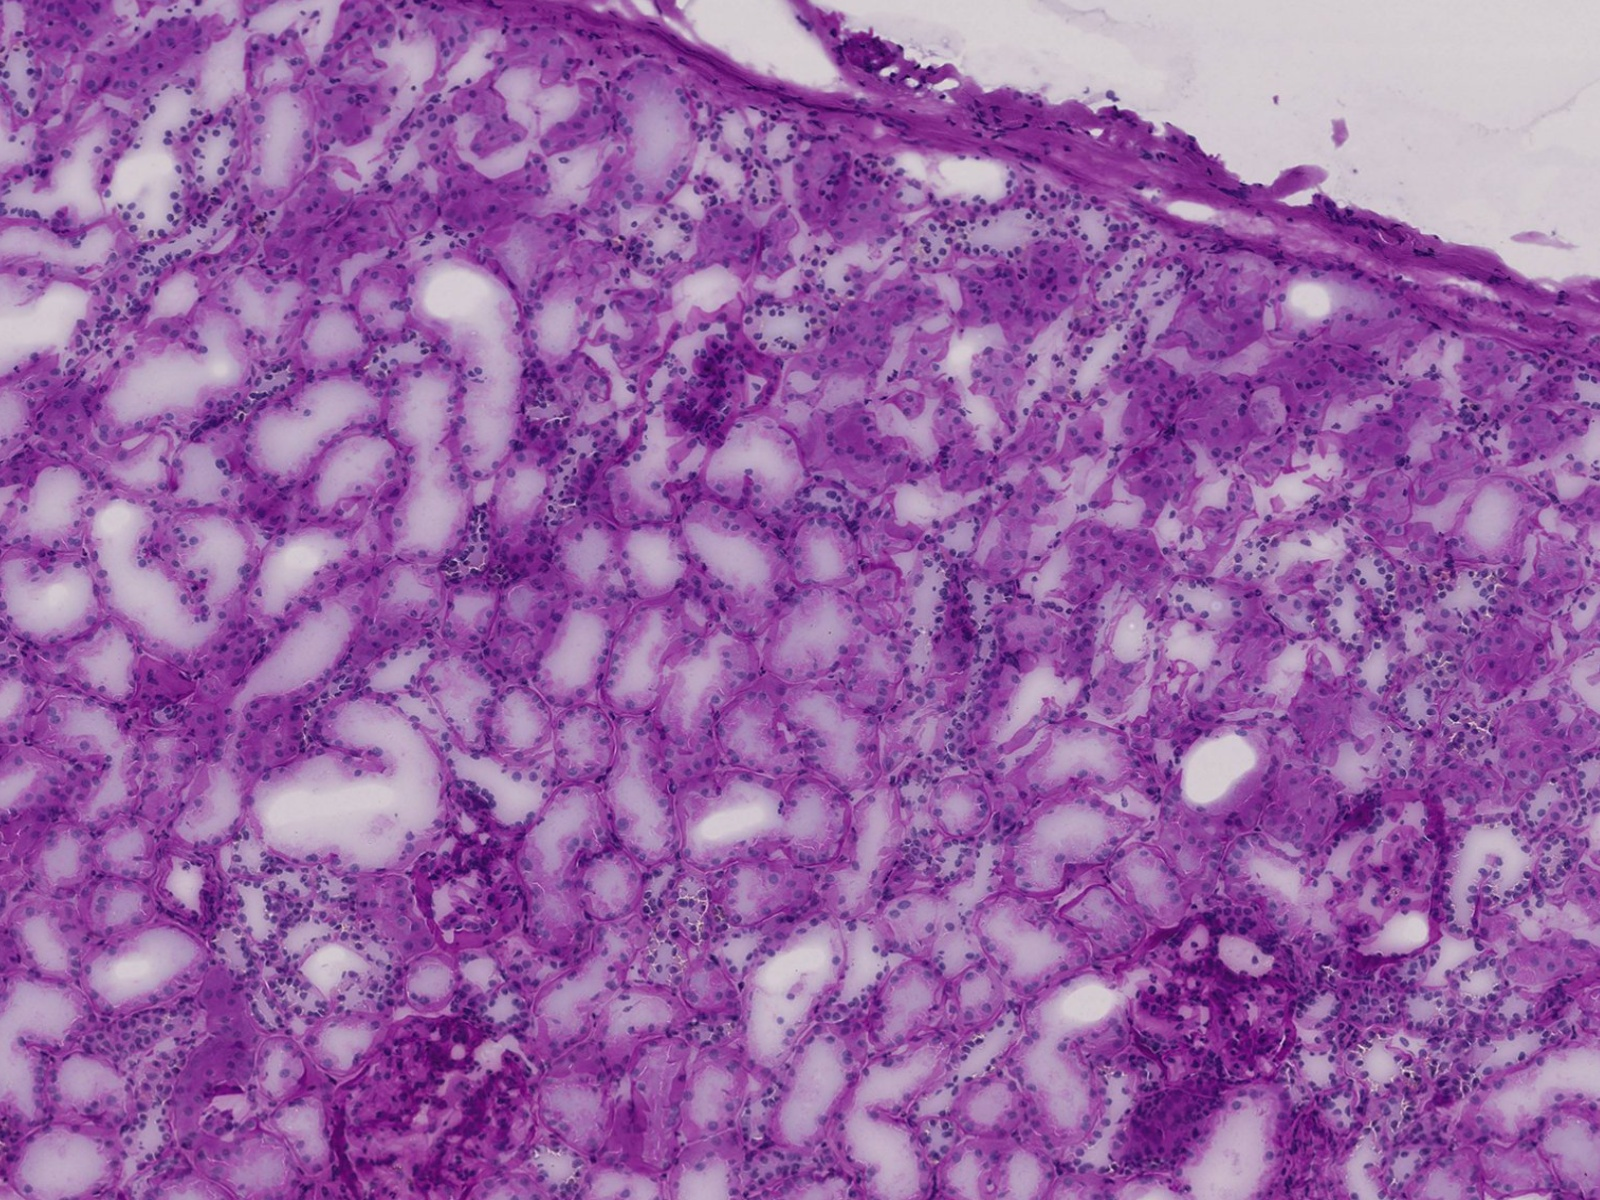Glomeruli: (336, 1017, 542, 1200), (1133, 914, 1324, 1092), (412, 834, 530, 945)
